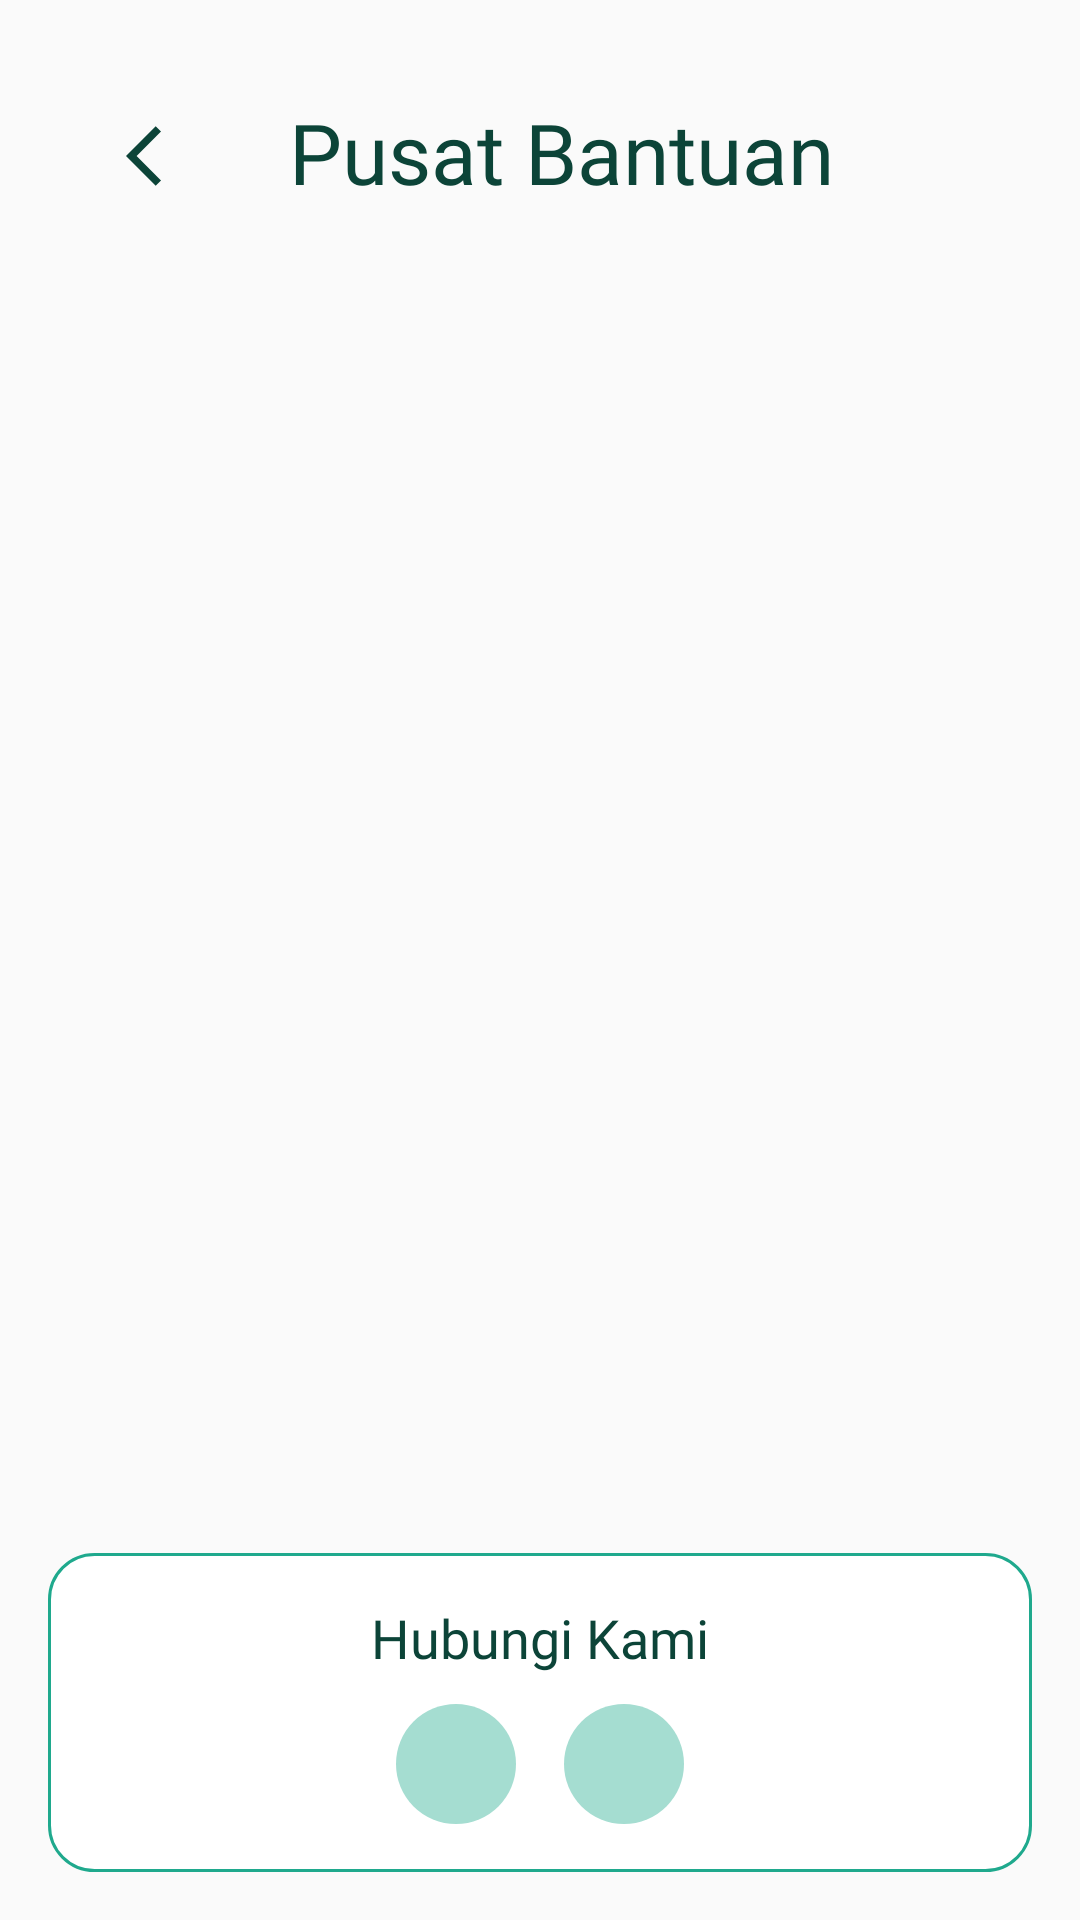

Icons on this 1080 × 1920 Android screen, each with its box as (x1, y1, x2, y2):
back: (126, 126, 161, 186)
